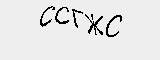Г: (70, 6, 81, 27)
Ж: (85, 10, 102, 36)
С: (105, 12, 123, 37), (54, 5, 70, 28), (39, 4, 52, 30)
